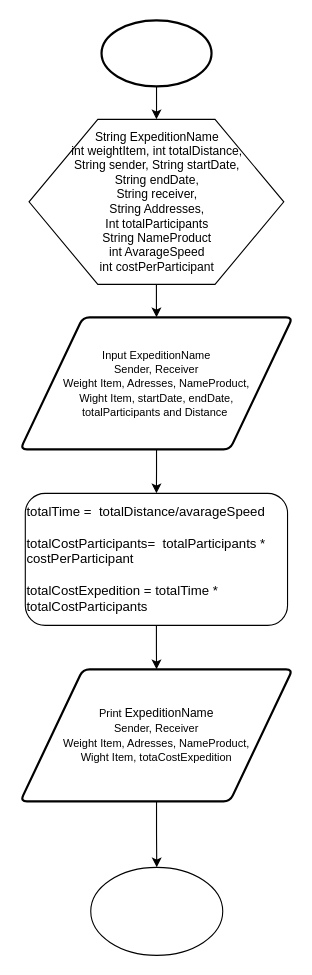
The diagram is 312 pixels wide and 975 high, and some of its shapes have lost their labels. Here are the shapes that lost their labels. From the top down, the box of each, then its label:
(100, 19, 212, 87): Start
(90, 866, 223, 955): End
